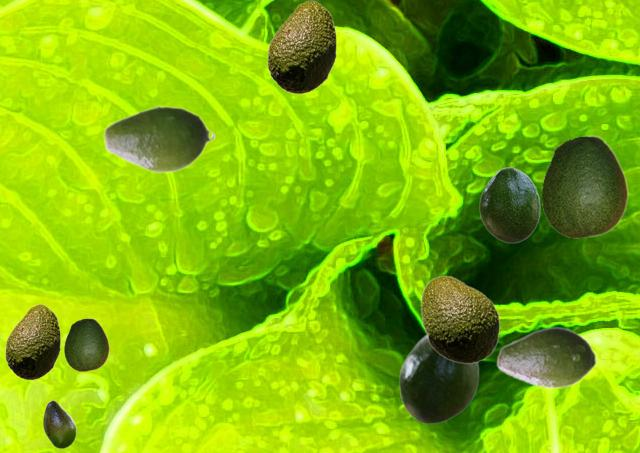avocado: (541, 135, 627, 237), (102, 104, 215, 173), (398, 334, 478, 423), (420, 275, 499, 363), (267, 0, 335, 93), (496, 326, 596, 388), (479, 167, 539, 242), (5, 304, 59, 379), (64, 318, 108, 370), (43, 400, 75, 447)
